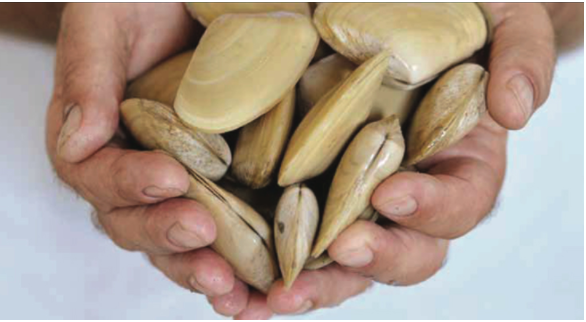tuatua: (172, 7, 317, 131), (277, 46, 386, 184), (168, 160, 279, 295), (313, 2, 490, 86), (318, 115, 405, 263), (118, 95, 234, 178), (408, 57, 489, 165), (273, 182, 320, 295), (237, 90, 285, 186)
